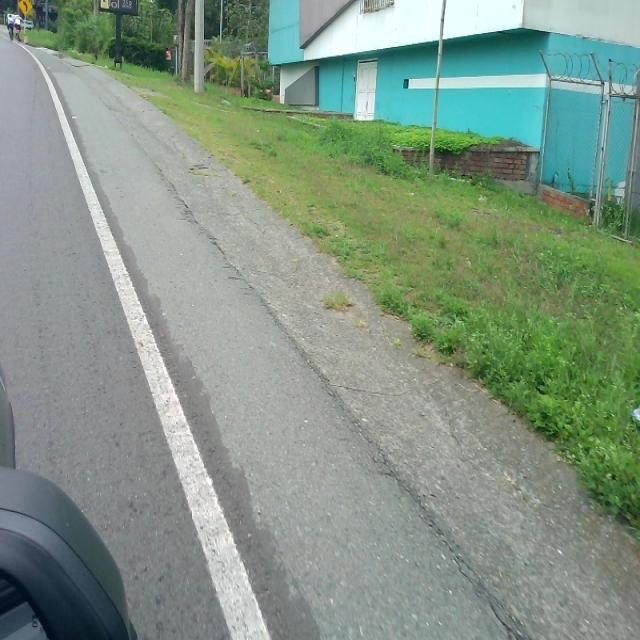DITCH: (3, 3, 638, 638), (5, 35, 638, 638)
